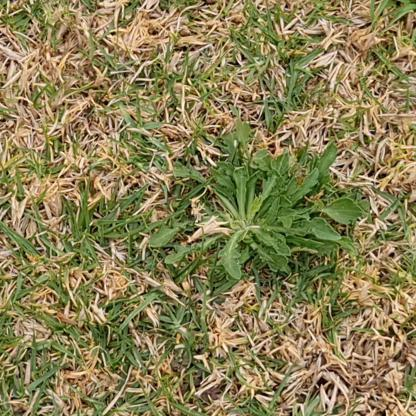Weeds: (149, 104, 369, 275)
